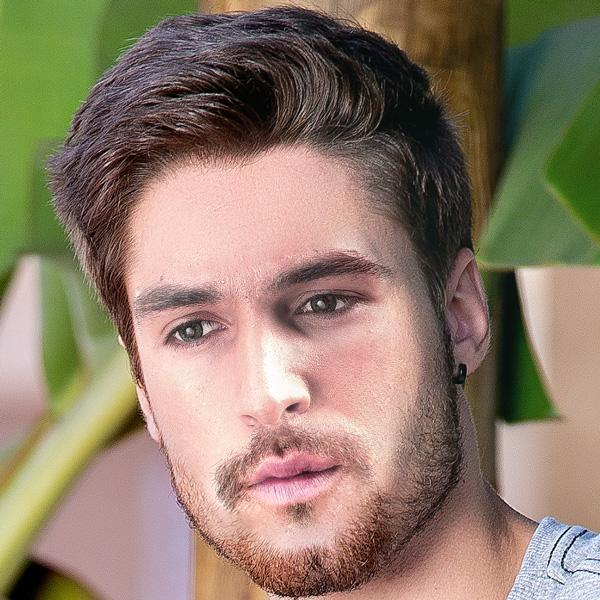Eyes: (147, 299, 239, 364), (290, 274, 378, 327)
